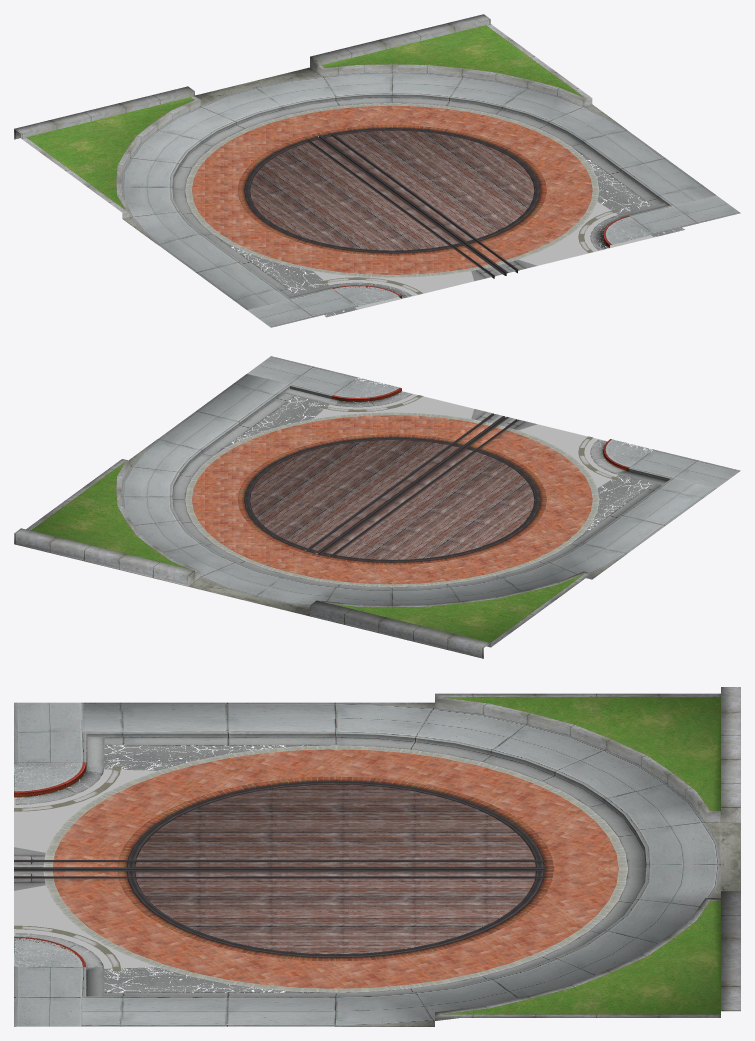
Rendered from RoadRail_TurnTable_Short.obj.
3 views of the same model, one above another, from view 1: azimuth 30°, elevation 25°; view 2: azimuth 150°, elevation 25°; view 3: azimuth 270°, elevation 25° (orthographic). The views are drawn at different scales.
Parts seen in each view (by area): view 1: ct2_01_n6_road_cross_12; view 2: ct2_01_n6_road_cross_12; view 3: ct2_01_n6_road_cross_12.
Part boxes in pixels (x1,y1,x2,y2): ct2_01_n6_road_cross_12: [14, 14, 740, 327]; ct2_01_n6_road_cross_12: [14, 356, 740, 658]; ct2_01_n6_road_cross_12: [14, 687, 740, 1026].
Bounding box in the file's own units: 31.69 × 1.06 × 30.02.
